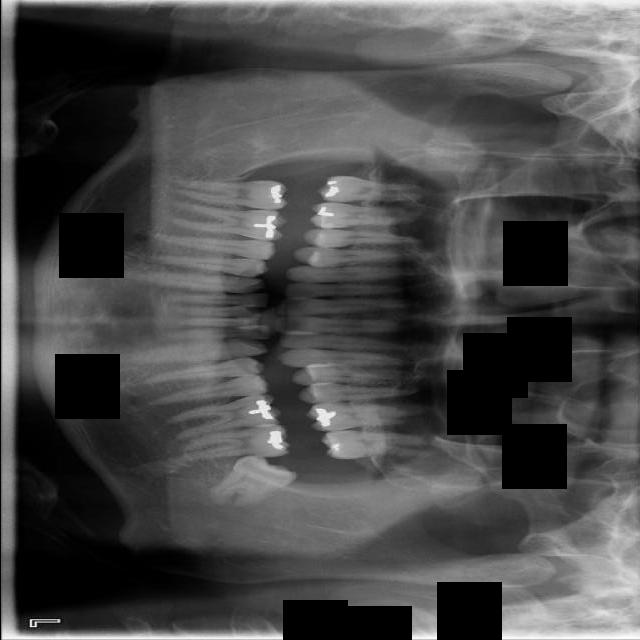52: (232, 387, 283, 437), (238, 203, 287, 245), (303, 399, 357, 435), (244, 420, 291, 461), (316, 428, 369, 461), (313, 175, 367, 204), (241, 180, 288, 211), (290, 245, 343, 269), (308, 202, 353, 229), (296, 381, 346, 405)
73: (102, 560, 106, 572)
BioHorizons Implant: (317, 429, 461, 460)
Biomet 3i Implant: (199, 436, 299, 527)
Blue Sky Bio Implant: (176, 422, 290, 464)
Caries: (313, 171, 460, 204)
Implant: (168, 180, 287, 210)
